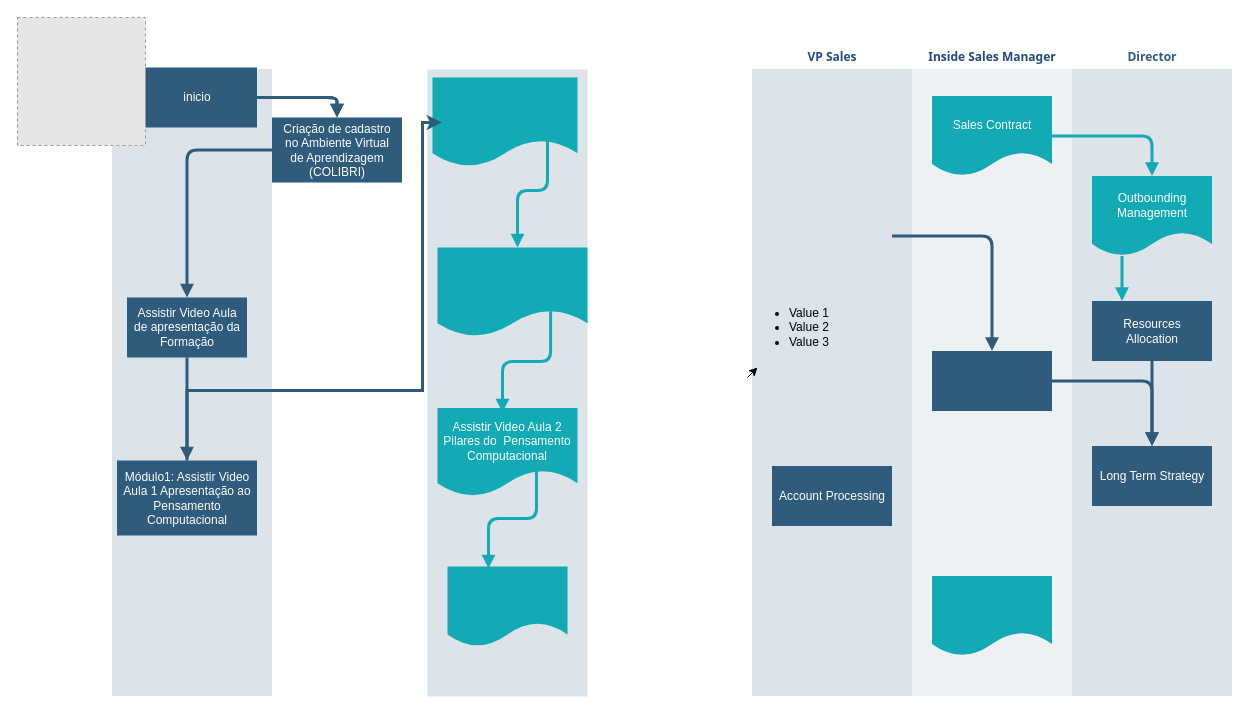
The diagram is 1249 pixels wide and 714 high, and some of its shapes have lost their labels. Grey dashed boxes stand in for pictures. The centre of each missing label's shape, as x and y in pixels:
Assistir Video Aula 1 Apresentação ao Pensamento Computacional: the point at 504,121
Bills: the point at 992,616
Cost Allocation: the point at 992,380
Fazer a Atividade -Questionário: the point at 507,606
Fazer Leitura do Livro -Pensamento Computacional: the point at 512,291
